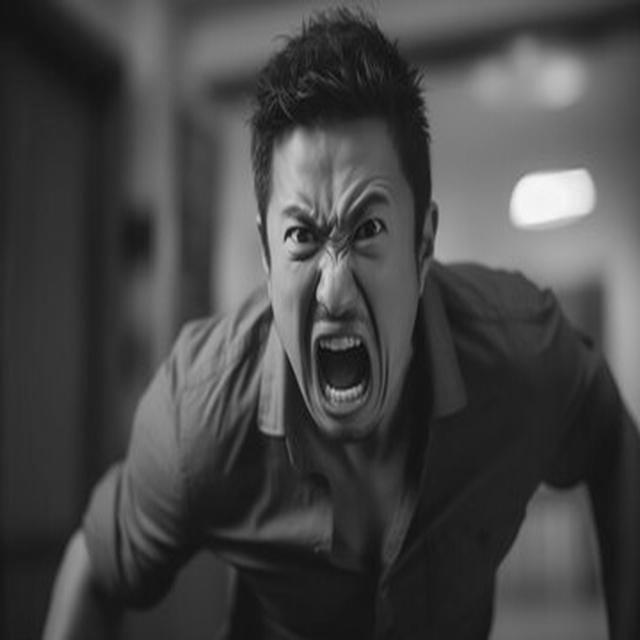Angry: (266, 128, 420, 443)
